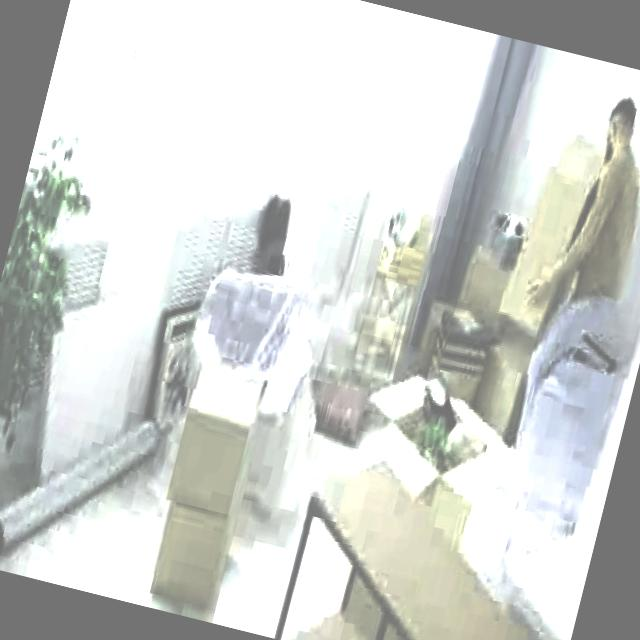Box: (166, 365, 270, 510), (150, 501, 237, 604)
